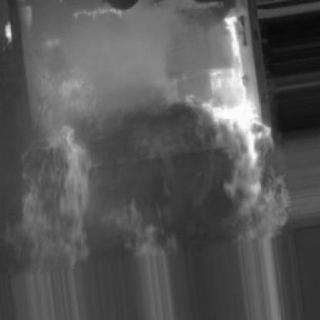Fire: (3, 5, 267, 279)
